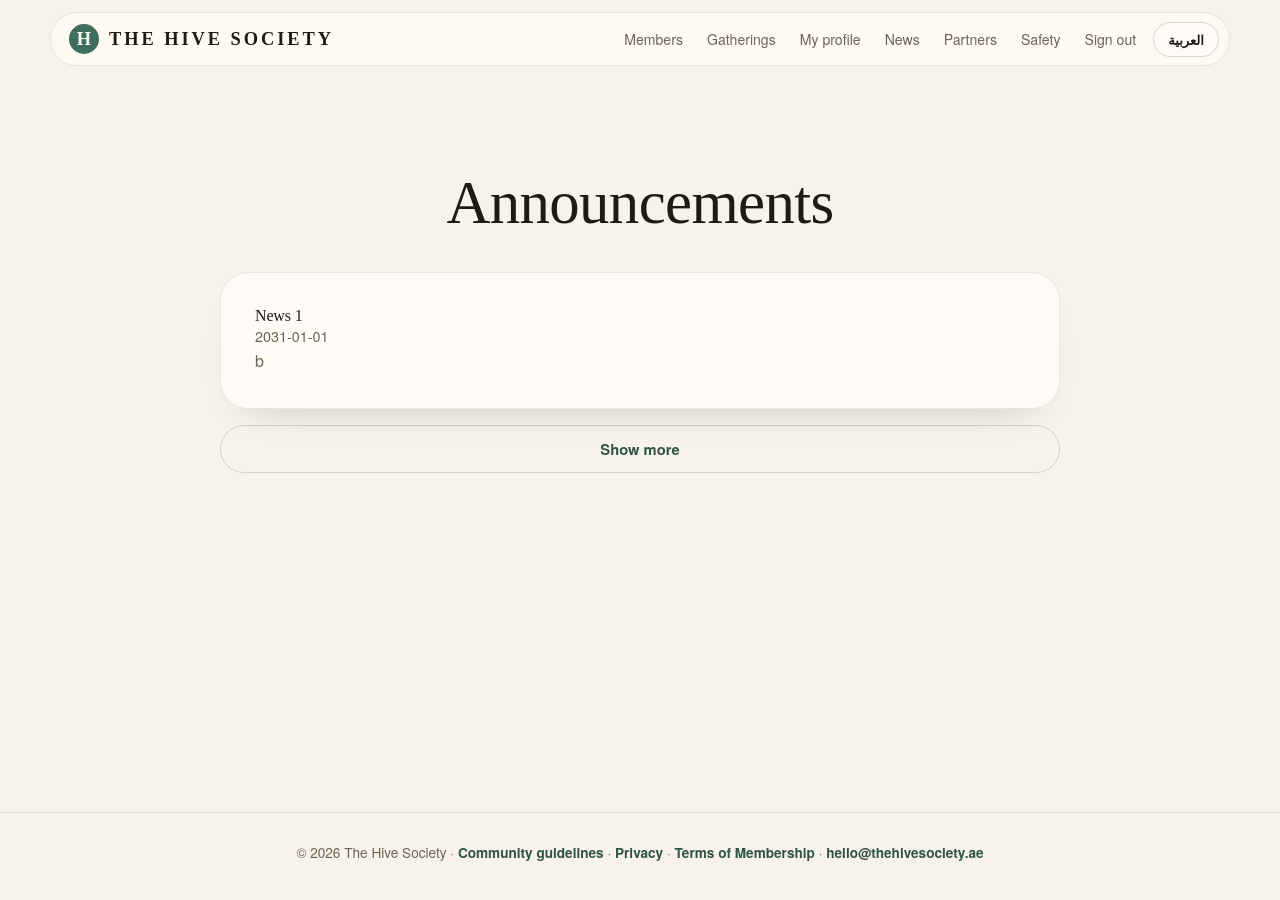
Test case: announcement feed › pages with "Show more"
Check: the heading "News 1" is shown, box top-left (255, 307), bottom-right (302, 324)
Click the button "Show more" at (640, 449), box top-left (220, 425), bottom-right (1060, 473)
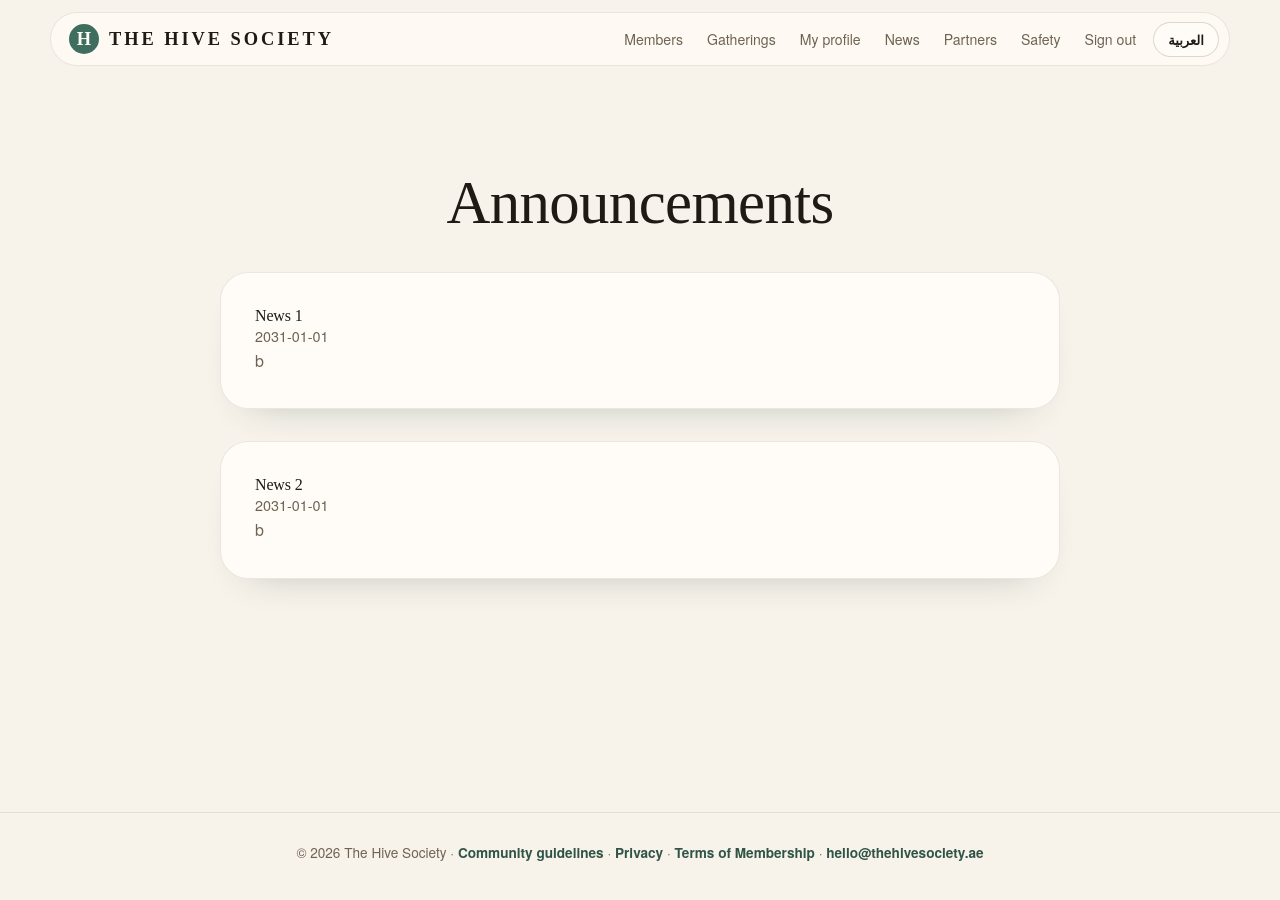
Check: the heading "News 2" is shown, box top-left (255, 476), bottom-right (302, 493)
Check: the button "Show more" is gone
